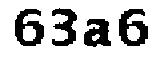3: (49, 6, 79, 51)
6: (10, 5, 47, 49), (116, 6, 151, 50)
a: (81, 17, 112, 50)
